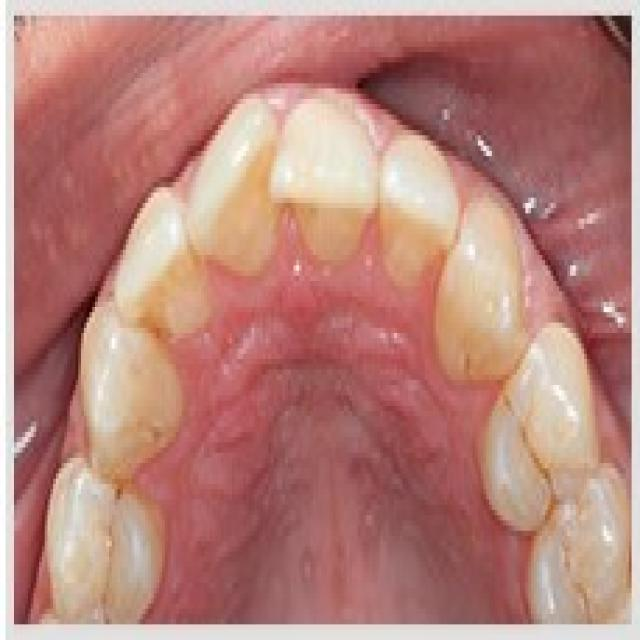tooth: (67, 317, 187, 453), (374, 104, 456, 281), (288, 93, 380, 250), (36, 484, 151, 603), (165, 130, 279, 245), (104, 203, 212, 323), (464, 198, 528, 369), (520, 333, 576, 515)
